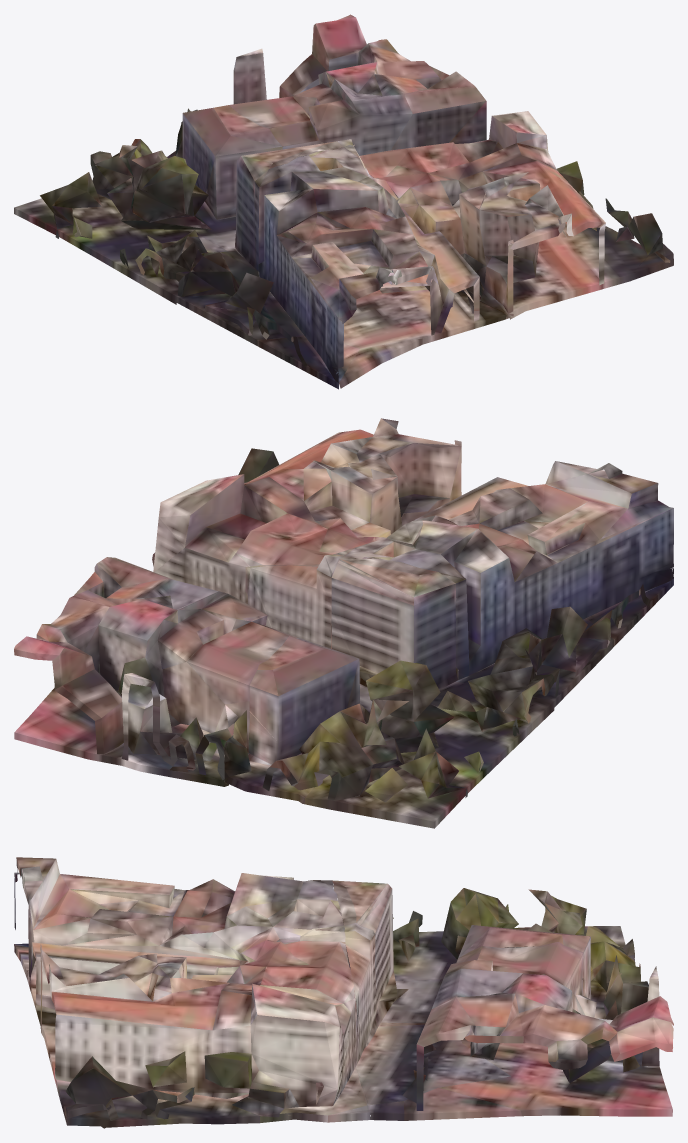
The picture shows the model from 3 angles, top to bottom: view 1: azimuth 30°, elevation 25°; view 2: azimuth 150°, elevation 25°; view 3: azimuth 270°, elevation 25°; orthographic projection. The views are drawn at different scales.
Visible parts, largest first — view 1: Mesh_0; view 2: Mesh_0; view 3: Mesh_0.
Boxes of the visible parts, x1,y1,x2,y2 form: Mesh_0: (14,14,673,389); Mesh_0: (14,418,673,828); Mesh_0: (14,857,673,1128).
Size of the model in its own units: 133 by 36.98 by 165.
1 material, 1 textured.
